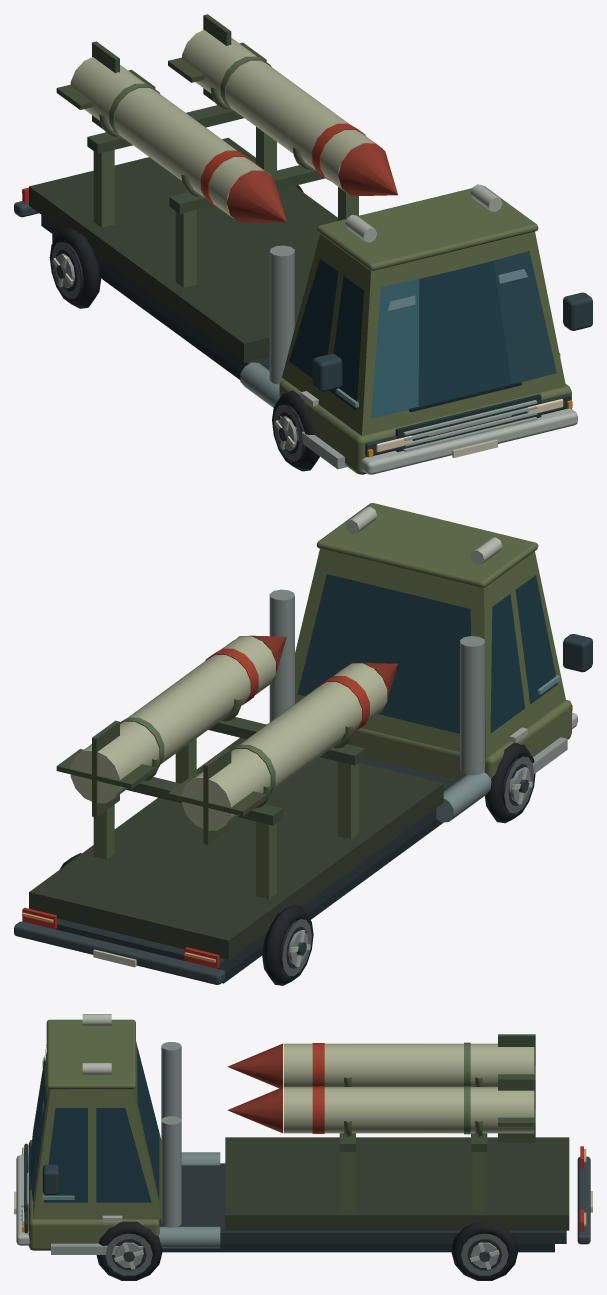
The model's file is missile.glb.
The picture shows the model from 3 angles, top to bottom: view 1: azimuth 30°, elevation 25°; view 2: azimuth 150°, elevation 25°; view 3: azimuth 270°, elevation 25°; orthographic projection. The views are drawn at different scales.
Parts seen in each view (by area): view 1: missile_body; view 2: missile_body; view 3: missile_body.
Part boxes in pixels (x1=…): missile_body: x1=14, y1=14, x2=592, y2=474; missile_body: x1=14, y1=503, x2=592, y2=985; missile_body: x1=14, y1=1014, x2=592, y2=1280.
Bounding box in the file's own units: 2.95 × 2.58 × 6.75.
